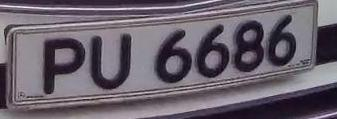6: (151, 24, 198, 89), (193, 20, 234, 82), (264, 13, 301, 71)
8: (229, 16, 267, 78)
P: (34, 32, 91, 99)
U: (86, 30, 139, 95)
